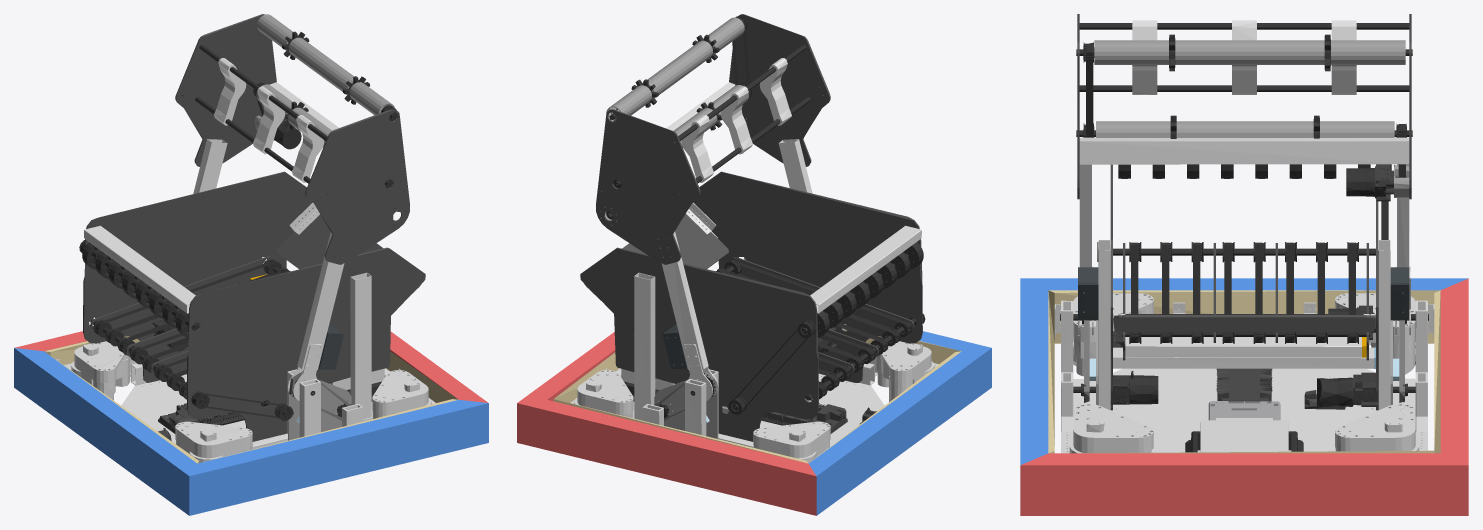
File: robot526.glb
The picture shows the model from 3 angles, left to right: view 1: azimuth 30°, elevation 25°; view 2: azimuth 150°, elevation 25°; view 3: azimuth 270°, elevation 25°; orthographic projection. The views are drawn at different scales.
Visible parts, largest first — view 1: base|595959, bumper|5da1ff, intake|595959, base|e9e9e9, intake|e9e9e9, base|e5e5e5, base|3a3a3a, intake|a3a3a3, intake|3a3a3a, bumper|ff6d6d, base|363636, base|efdeac (+3 smaller); view 2: base|595959, intake|595959, bumper|ff6d6d, bumper|5da1ff, base|e9e9e9, intake|e9e9e9, base|e5e5e5, base|3a3a3a, intake|a3a3a3, base|efdeac, base|363636, intake|3a3a3a (+3 smaller); view 3: bumper|ff6d6d, base|e9e9e9, intake|e9e9e9, intake|a3a3a3, base|e5e5e5, bumper|5da1ff, base|3a3a3a, base|efdeac, base|595959, intake|3a3a3a, base|363636, base|4c4c4c (+9 smaller).
Boxes of the visible parts, bbox=[...] form: base|595959: bbox=[83, 171, 425, 441]; bumper|5da1ff: bbox=[14, 348, 488, 515]; intake|595959: bbox=[175, 14, 409, 264]; base|e9e9e9: bbox=[56, 202, 400, 449]; intake|e9e9e9: bbox=[193, 58, 344, 400]; base|e5e5e5: bbox=[64, 341, 435, 462]; base|3a3a3a: bbox=[79, 240, 351, 420]; intake|a3a3a3: bbox=[254, 14, 394, 147]; intake|3a3a3a: bbox=[195, 31, 397, 194]; bumper|ff6d6d: bbox=[14, 331, 487, 402]; base|363636: bbox=[81, 242, 288, 418]; base|efdeac: bbox=[44, 336, 458, 463]; base|595959: bbox=[580, 171, 922, 441]; intake|595959: bbox=[596, 14, 830, 264]; bumper|ff6d6d: bbox=[517, 332, 816, 515]; bumper|5da1ff: bbox=[808, 331, 991, 515]; base|e9e9e9: bbox=[605, 202, 921, 447]; intake|e9e9e9: bbox=[661, 58, 812, 400]; base|e5e5e5: bbox=[570, 341, 938, 463]; base|3a3a3a: bbox=[654, 242, 925, 418]; intake|a3a3a3: bbox=[605, 17, 748, 220]; base|efdeac: bbox=[553, 324, 961, 463]; base|363636: bbox=[717, 259, 923, 408]; intake|3a3a3a: bbox=[606, 16, 810, 219]; bumper|ff6d6d: bbox=[1020, 278, 1468, 515]; base|e9e9e9: bbox=[1054, 240, 1434, 452]; intake|e9e9e9: bbox=[1078, 20, 1410, 335]; intake|a3a3a3: bbox=[1094, 40, 1409, 197]; base|e5e5e5: bbox=[1061, 293, 1427, 453]; bumper|5da1ff: bbox=[1020, 278, 1468, 464]; base|3a3a3a: bbox=[1060, 164, 1428, 406]; base|efdeac: bbox=[1048, 290, 1440, 453]; base|595959: bbox=[1110, 164, 1378, 410]; intake|3a3a3a: bbox=[1076, 23, 1412, 196]; base|363636: bbox=[1131, 201, 1388, 342]; base|4c4c4c: bbox=[1216, 368, 1345, 409].
Size of the model in its own units: 0.9017 by 1 by 0.9144.
